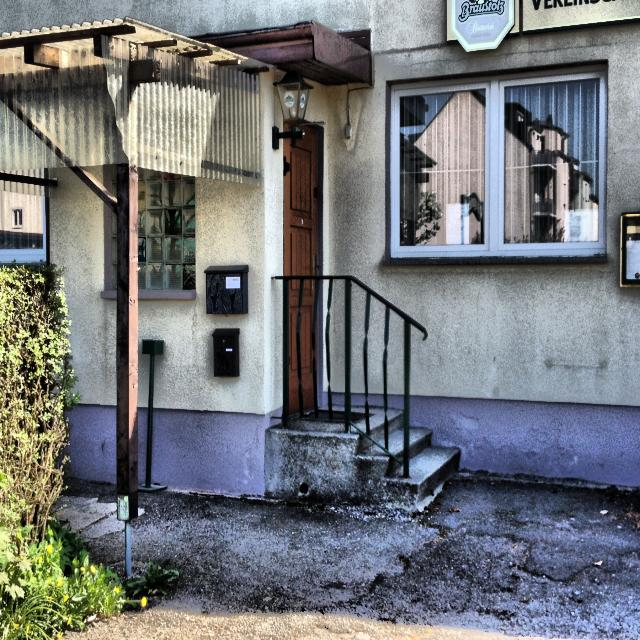escada: (352, 408, 459, 507)
